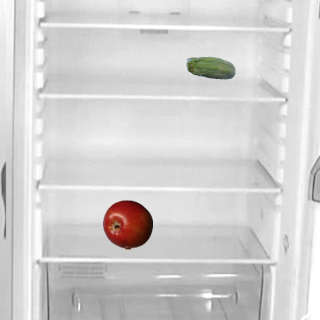Apple Braeburn: (102, 199, 152, 249)
Corn Husk: (185, 44, 235, 94)
